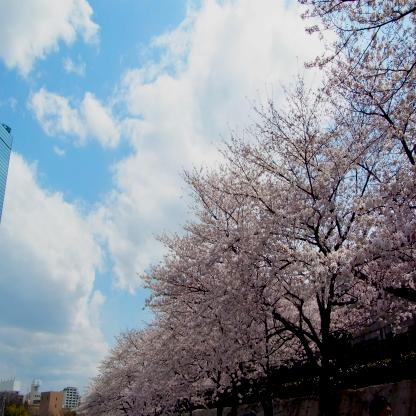Someiyoshino: (75, 4, 414, 416)
